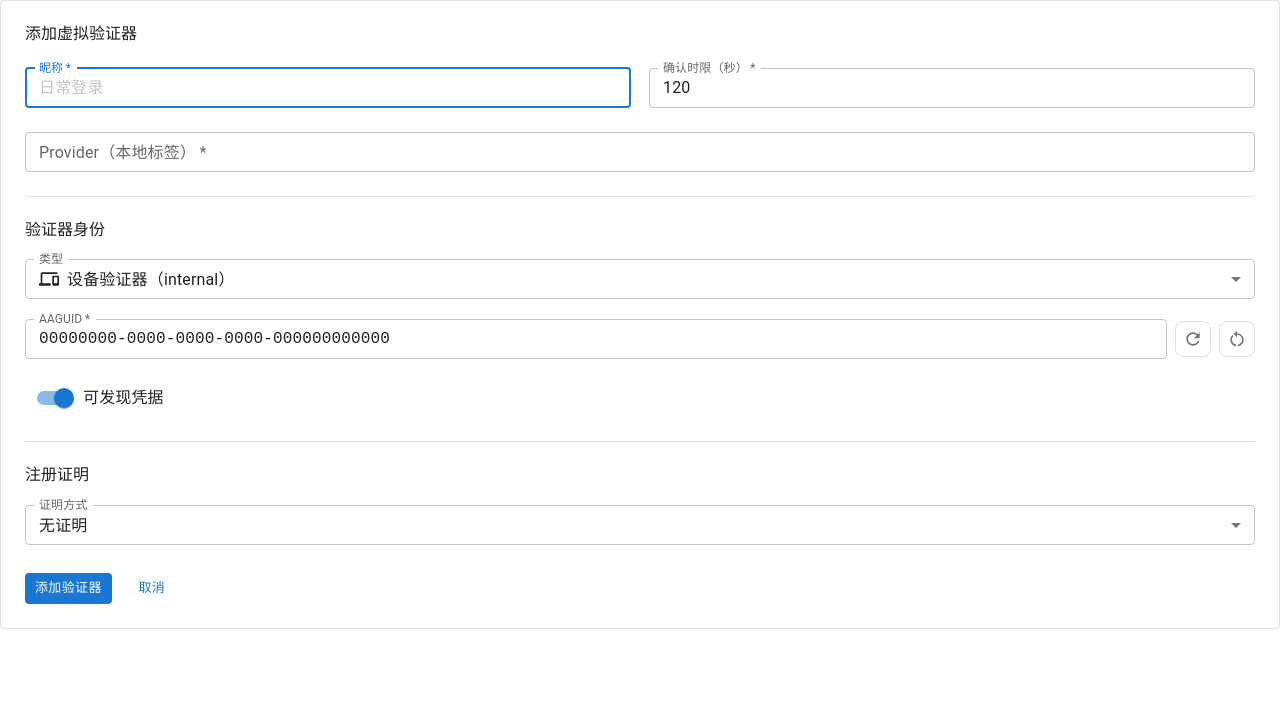
Test: Material UI key form › validates timeout and identity before any request
This screenshot has width=1280, height=720.
Type "Validation key" into the field labelled "昵称 *" at (328, 88), box top-left (25, 68), bottom-right (631, 108)
Type "Test provider" into the field labelled "Provider（本地标签） *" at (640, 152), box top-left (25, 132), bottom-right (1255, 172)
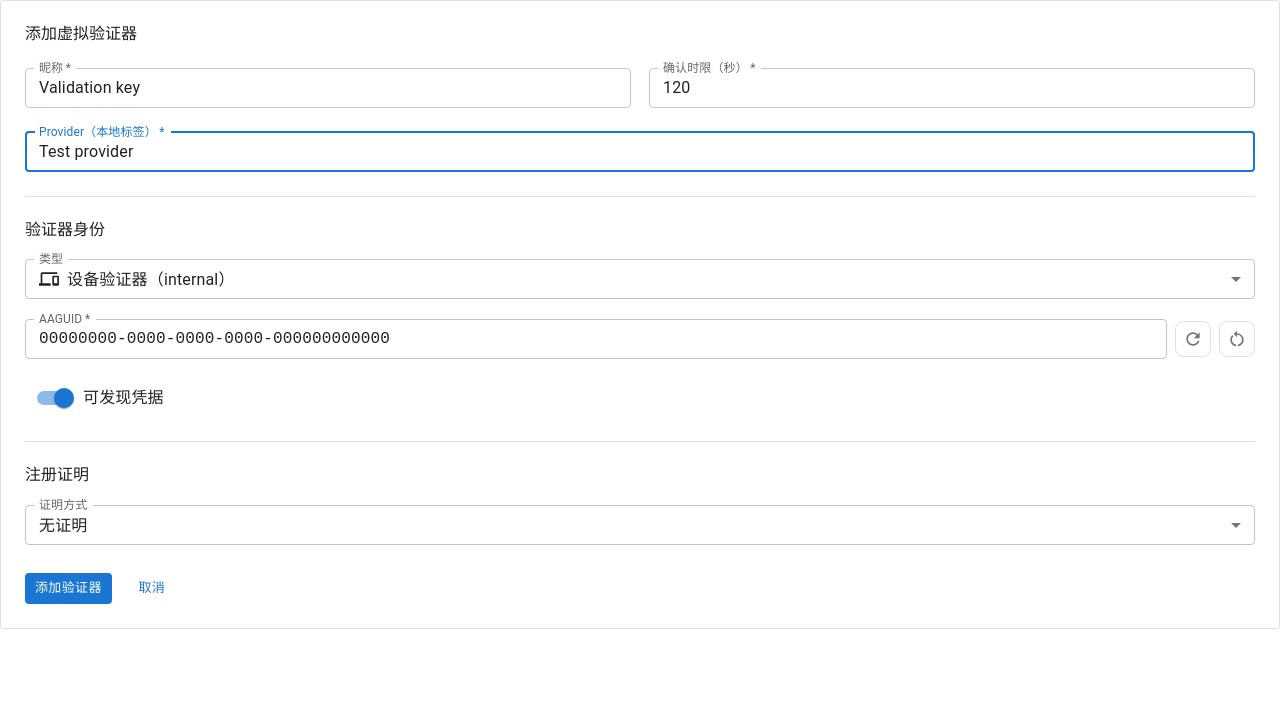
Replace the text in the number field labelled "确认时限（秒） *" with "0" at (952, 88), box top-left (649, 68), bottom-right (1255, 108)
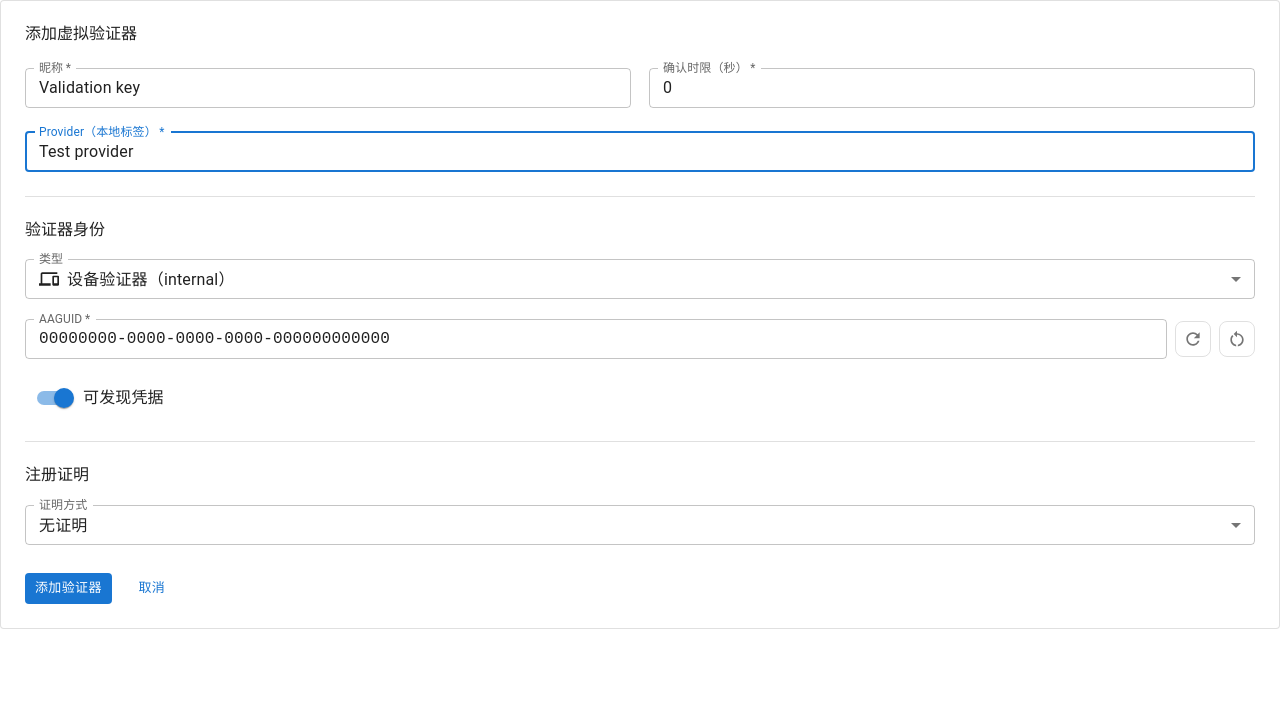
Submit the form
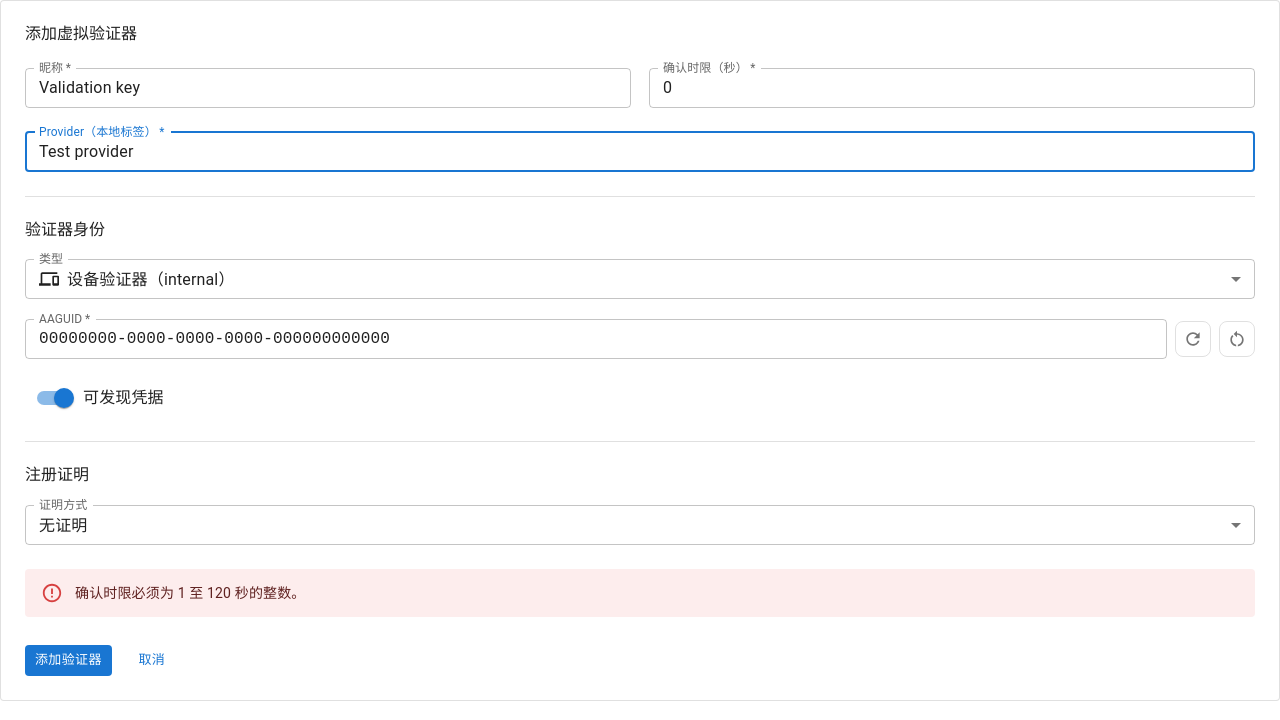
Now the message shows "1 至 120", box top-left (75, 585), bottom-right (306, 601)
Replace the text in the number field labelled "确认时限（秒） *" with "120" at (952, 88), box top-left (649, 68), bottom-right (1255, 108)
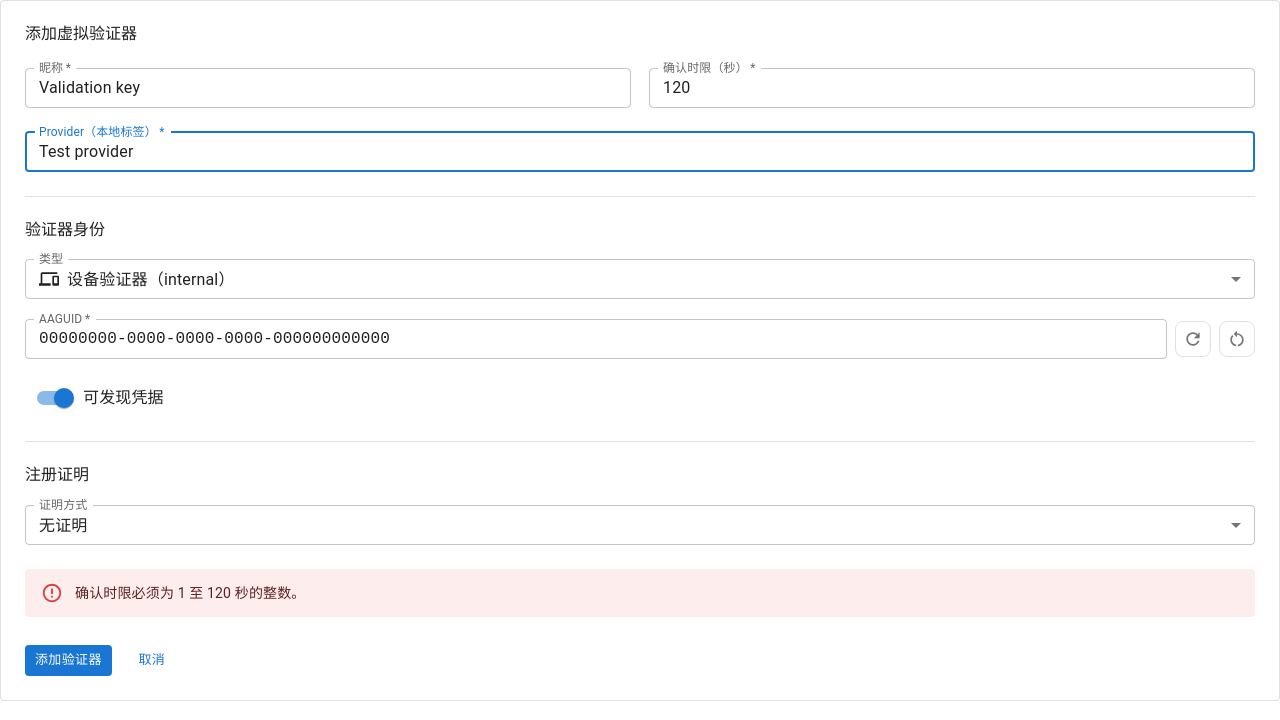
Type "invalid" into the field labelled "AAGUID *" at (596, 339), box top-left (25, 319), bottom-right (1167, 359)
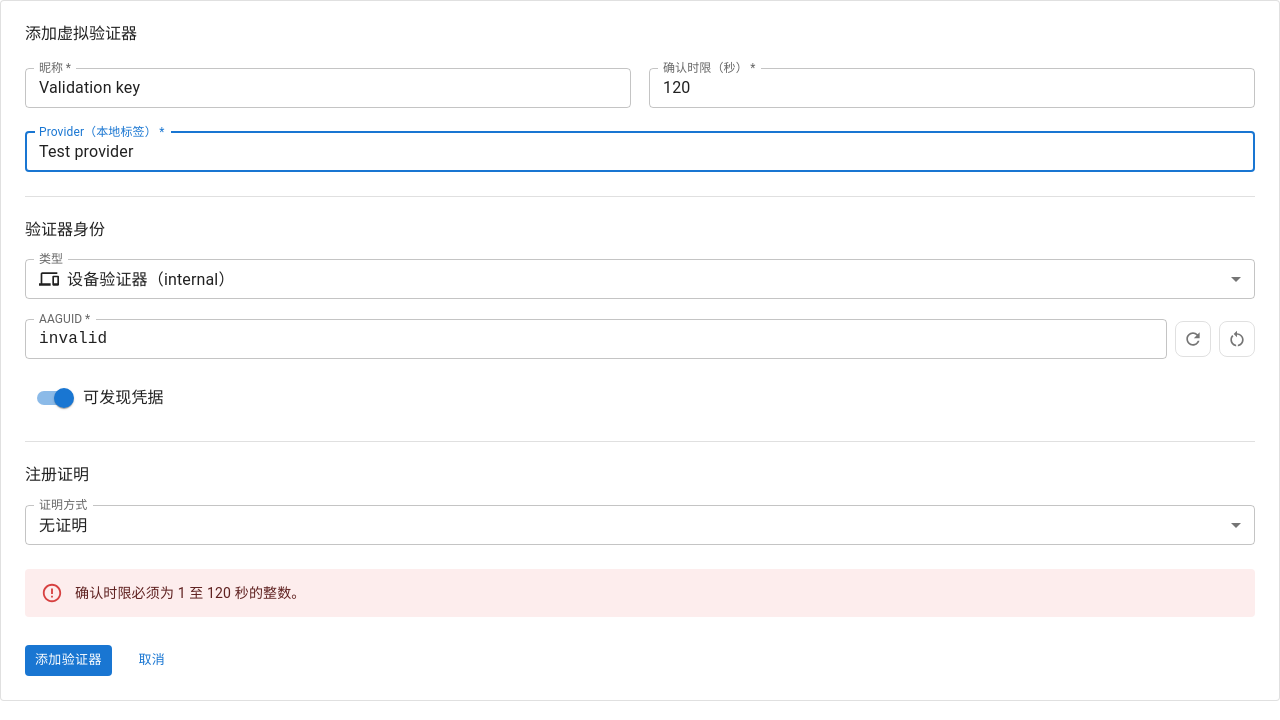
Submit the form
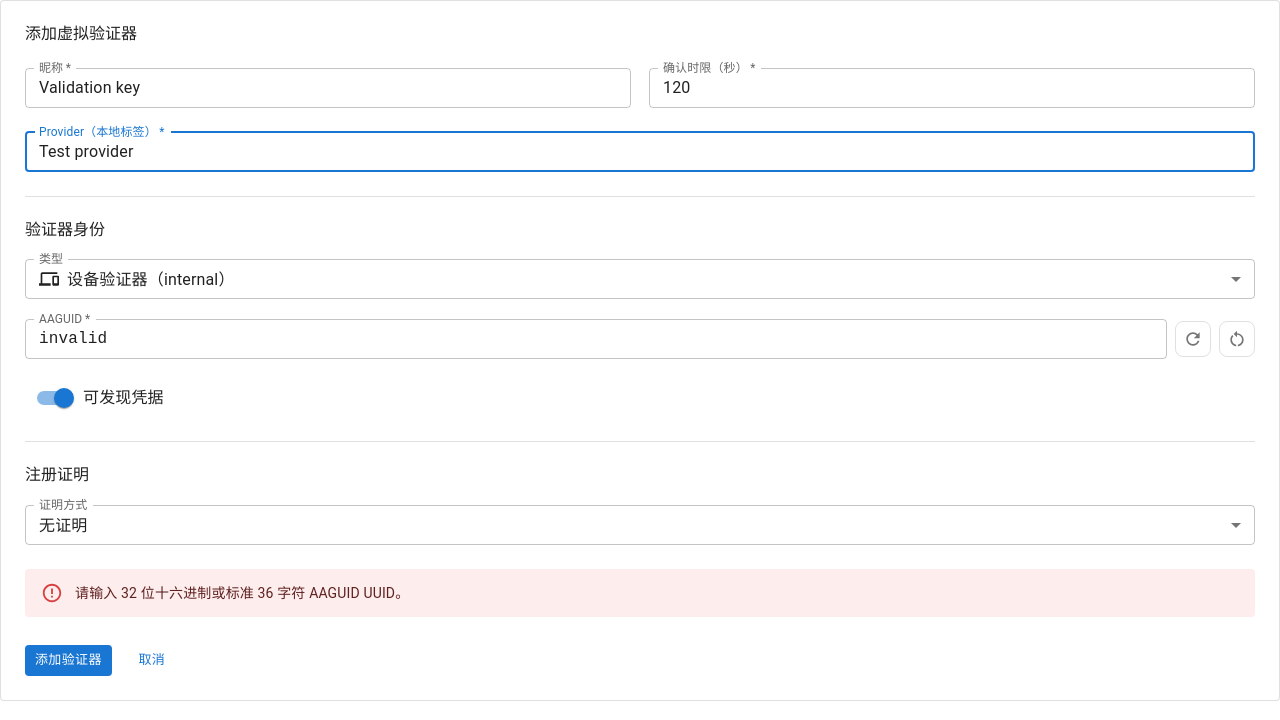
Now the message shows "AAGUID", box top-left (75, 585), bottom-right (409, 601)
